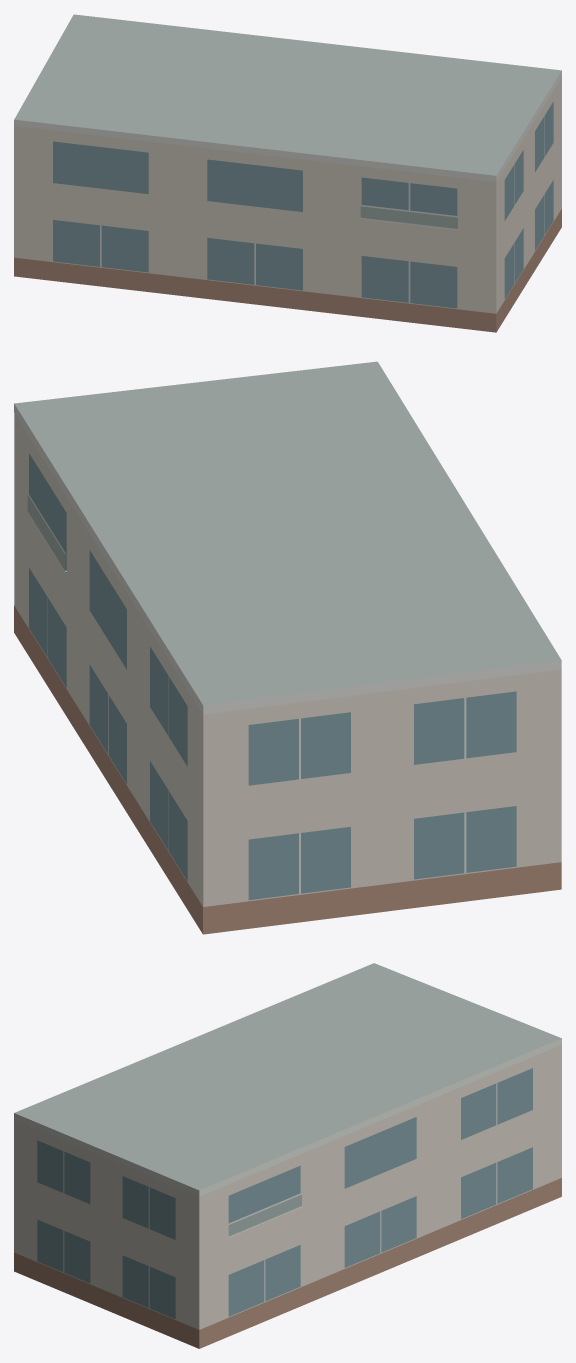
The model's file is survey-upis-32500856.glb.
3 renders of one model, top to bottom at view 1: azimuth 30°, elevation 25°; view 2: azimuth 150°, elevation 25°; view 3: azimuth 270°, elevation 25°, orthographic. The views are drawn at different scales.
Visible parts, largest first — view 1: survey-upis-32500856.tmp; view 2: survey-upis-32500856.tmp; view 3: survey-upis-32500856.tmp.
Boxes of the visible parts, <box> form: survey-upis-32500856.tmp: <box>14,14,561,332</box>; survey-upis-32500856.tmp: <box>14,361,561,934</box>; survey-upis-32500856.tmp: <box>14,963,561,1348</box>.
Bounding box in the file's own units: 18.79 × 6.1 × 19.12.
